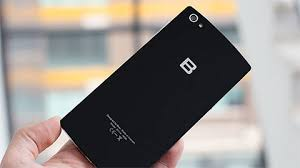bphone: (54, 5, 253, 167)
